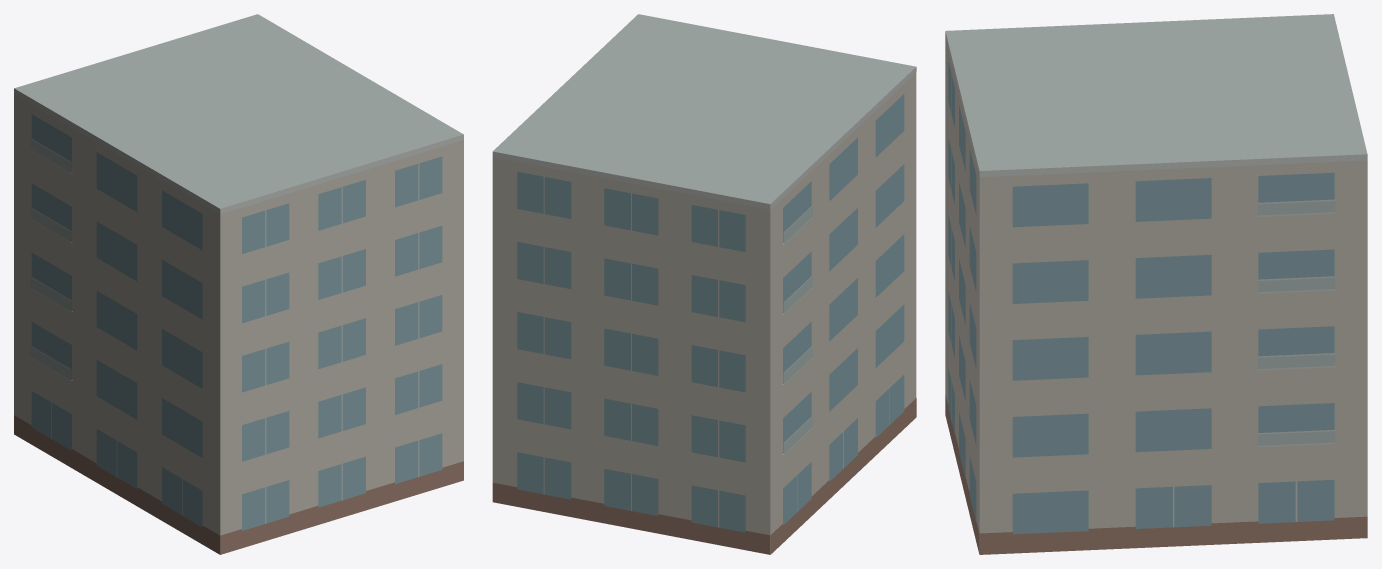
Rendered from survey-upis-32949800.glb.
The picture shows the model from 3 angles, left to right: view 1: azimuth 30°, elevation 25°; view 2: azimuth 150°, elevation 25°; view 3: azimuth 270°, elevation 25°; orthographic projection. The views are drawn at different scales.
Visible parts, largest first — view 1: survey-upis-32949800.tmp; view 2: survey-upis-32949800.tmp; view 3: survey-upis-32949800.tmp.
Part boxes in pixels (box(x1,y1,x2,y2)): survey-upis-32949800.tmp: box(14, 14, 463, 554); survey-upis-32949800.tmp: box(492, 14, 916, 554); survey-upis-32949800.tmp: box(945, 14, 1367, 554).
Size of the model in its own units: 13.39 by 15.25 by 15.21.
